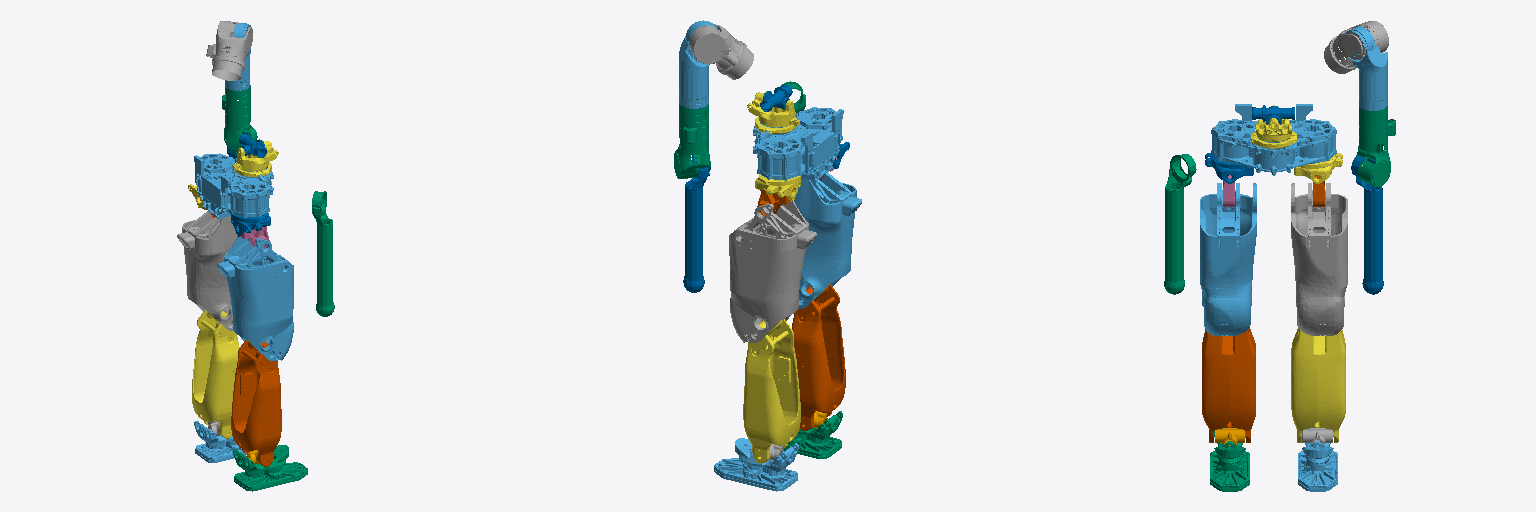
--- Render facts (derived) ---
Views: 3 orthographic renders of the robot side by side, from view 1: azimuth 30°, elevation 25°; view 2: azimuth 150°, elevation 25°; view 3: azimuth 270°, elevation 25°.
Robot: nadia — 35 links, 34 joints (23 revolute, 10 fixed, 1 floating); root link world; default pose: all joints at 0.
Visible links, largest first — view 1: RIGHT_THIGH_LINK, RIGHT_SHIN_LINK, LEFT_THIGH_LINK, LEFT_SHIN_LINK, PELVIS_LINK, RIGHT_ELBOW_PITCH_LINK, RIGHT_FOOT_LINK, LEFT_SHOULDER_PITCH_LINK, LEFT_SHOULDER_YAW_LINK, LEFT_FOOT_LINK, SPINE_YAW_LINK, LEFT_SHOULDER_ROLL_LINK (+1 smaller); view 2: LEFT_THIGH_LINK, LEFT_SHIN_LINK, RIGHT_THIGH_LINK, RIGHT_SHIN_LINK, PELVIS_LINK, LEFT_FOOT_LINK, LEFT_SHOULDER_PITCH_LINK, LEFT_ELBOW_PITCH_LINK, LEFT_SHOULDER_YAW_LINK, LEFT_SHOULDER_ROLL_LINK, RIGHT_FOOT_LINK, SPINE_YAW_LINK (+2 smaller); view 3: RIGHT_THIGH_LINK, LEFT_THIGH_LINK, LEFT_SHIN_LINK, RIGHT_SHIN_LINK, PELVIS_LINK, RIGHT_ELBOW_PITCH_LINK, LEFT_SHOULDER_YAW_LINK, LEFT_ELBOW_PITCH_LINK, LEFT_SHOULDER_ROLL_LINK, RIGHT_FOOT_LINK, LEFT_FOOT_LINK, LEFT_SHOULDER_PITCH_LINK (+4 smaller).
Boxes of the visible links, <box> form: RIGHT_THIGH_LINK: <box>217,236,293,360</box>; RIGHT_SHIN_LINK: <box>231,340,281,466</box>; LEFT_THIGH_LINK: <box>177,211,236,330</box>; LEFT_SHIN_LINK: <box>192,310,239,438</box>; PELVIS_LINK: <box>194,153,273,218</box>; RIGHT_ELBOW_PITCH_LINK: <box>312,191,334,316</box>; RIGHT_FOOT_LINK: <box>233,445,307,491</box>; LEFT_SHOULDER_PITCH_LINK: <box>206,21,252,80</box>; LEFT_SHOULDER_YAW_LINK: <box>222,81,257,154</box>; LEFT_FOOT_LINK: <box>194,421,246,462</box>; SPINE_YAW_LINK: <box>232,140,278,176</box>; LEFT_SHOULDER_ROLL_LINK: <box>225,23,250,90</box>; LEFT_THIGH_LINK: <box>729,201,816,342</box>; LEFT_SHIN_LINK: <box>743,319,800,463</box>; RIGHT_THIGH_LINK: <box>794,172,861,308</box>; RIGHT_SHIN_LINK: <box>792,284,845,430</box>; PELVIS_LINK: <box>753,107,843,180</box>; LEFT_FOOT_LINK: <box>714,438,798,491</box>; LEFT_SHOULDER_PITCH_LINK: <box>689,24,753,79</box>; LEFT_ELBOW_PITCH_LINK: <box>683,155,709,292</box>; LEFT_SHOULDER_YAW_LINK: <box>674,98,710,178</box>; LEFT_SHOULDER_ROLL_LINK: <box>679,20,716,108</box>; RIGHT_FOOT_LINK: <box>783,411,842,458</box>; SPINE_YAW_LINK: <box>747,91,799,133</box>; RIGHT_THIGH_LINK: <box>1200,183,1256,335</box>; LEFT_THIGH_LINK: <box>1291,183,1347,335</box>; LEFT_SHIN_LINK: <box>1291,328,1345,442</box>; RIGHT_SHIN_LINK: <box>1202,328,1255,442</box>; PELVIS_LINK: <box>1211,104,1336,175</box>; RIGHT_ELBOW_PITCH_LINK: <box>1164,154,1196,294</box>; LEFT_SHOULDER_YAW_LINK: <box>1351,100,1395,186</box>; LEFT_ELBOW_PITCH_LINK: <box>1351,155,1383,294</box>; LEFT_SHOULDER_ROLL_LINK: <box>1345,26,1387,110</box>; RIGHT_FOOT_LINK: <box>1210,428,1249,491</box>; LEFT_FOOT_LINK: <box>1298,428,1337,491</box>; LEFT_SHOULDER_PITCH_LINK: <box>1324,21,1388,73</box>.
Bounding box of the posed robot: 0.3882 × 0.6883 × 1.5 m (x, y, z).
20 mesh visuals loaded from 22 distinct referenced files (18 OBJ); not drawn: 4 (reference not matched to a file when rendering).

robot.urdf — nadia:
<?xml version = "1.0" ?>
<robot name="nadia" xmlns:xacro="http://www.ros.org/wiki/xacro">

<mujoco>
    <compiler meshdir="../.." discardvisual="false" strippath="false"/>
</mujoco>

<!-- revolute joints -->
<joint name="LEFT_HIP_Z" type="revolute">
    <origin rpy="0 0 0" xyz="0 0.115 -0.07185" />
    <axis xyz="0 0 -1" />
    <parent link="PELVIS_LINK" />
    <child link="LEFT_HIP_YAW_LINK" />
    <limit effort="1000" lower="-0.7854" upper="0.7854" velocity = "100" />
    <dynamics damping="0.05" friction="0.0"/>
</joint>

<joint name="RIGHT_HIP_Z" type="revolute">
    <origin rpy="0 0 0" xyz="0 -0.115 -0.07185" />
    <axis xyz="0 0 -1" />
    <parent link="PELVIS_LINK" />
    <child link="RIGHT_HIP_YAW_LINK" />
    <limit effort="1000" lower="-0.7854" upper="0.7854" velocity = "100" />
    <dynamics damping="0.05" friction="0.0"/>
</joint>

<joint name="LEFT_HIP_X" type="revolute">
    <origin rpy="0 0 0" xyz="0.035 0.015 -0.04975" />
    <axis xyz="1 0 0" />
    <parent link="LEFT_HIP_YAW_LINK" />
    <child link="LEFT_HIP_ROLL_LINK" />
    <limit effort="1000" lower="-0.5236" upper="1.0472" velocity = "100" />
    <dynamics damping="0.05" friction="0.0"/>
</joint>

<joint name="RIGHT_HIP_X" type="revolute">
    <origin rpy="0 0 0" xyz="0.035 -0.015 -0.04975" />
    <axis xyz="1 0 0" />
    <parent link="RIGHT_HIP_YAW_LINK" />
    <child link="RIGHT_HIP_ROLL_LINK" />
    <limit effort="1000" lower="-1.0472" upper="0.5236" velocity = "100" />
    <dynamics damping="0.05" friction="0.0"/>
</joint>

<joint name="LEFT_HIP_Y" type="revolute">
    <origin rpy="0 0 0" xyz="0 0 -0.079068" />
    <axis xyz="0 1 0" />
    <parent link="LEFT_HIP_ROLL_LINK" />
    <child link="LEFT_THIGH_LINK" />
    <limit effort="1000" lower="-1.57" upper="0.314" velocity = "100" />
    <dynamics damping="0.05" friction="0.0"/>
</joint>

<joint name='LEFT_KNEE_Y' type='revolute'>
    <origin rpy="0 0 0" xyz="0 0 -0.38" />
    <axis xyz="0 1 0" />
    <parent link="LEFT_THIGH_LINK" />
    <child link="LEFT_SHIN_LINK" />
    <limit effort="350" lower="0" upper="2.62" velocity = "100" />
    <dynamics damping="0.05" friction="0.0"/>
</joint>

<joint name="RIGHT_HIP_Y" type="revolute">
    <origin rpy="0 0 0" xyz="0 0 -0.079068" />
    <axis xyz="0 1 0" />
    <parent link="RIGHT_HIP_ROLL_LINK" />
    <child link="RIGHT_THIGH_LINK" />
    <limit effort="1000" lower="-1.57" upper="0.314" velocity = "100" />
    <dynamics damping="0.05" friction="0.0"/>
</joint>

<joint name='RIGHT_KNEE_Y' type='revolute'>
    <origin rpy="0 0 0" xyz="0 0 -0.38" />
    <axis xyz="0 1 0" />
    <parent link="RIGHT_THIGH_LINK" />
    <child link="RIGHT_SHIN_LINK" />
    <limit effort="350" lower="0" upper="2.62" velocity = "100" />
    <dynamics damping="0.05" friction="0.0"/>
</joint>

<joint name="LEFT_ANKLE_Y" type="revolute">
    <origin rpy="0 0 0" xyz="-0.00830222 0 -0.40213938" />
    <axis xyz="0 1 0" />
    <parent link="LEFT_SHIN_LINK" />
    <child link="LEFT_ANKLE_LINK" />
    <limit effort="1000" lower="-1.0472" upper="0.698132" velocity = "100" />
    <dynamics damping="0.05" friction="0.0"/>
</joint>

<joint name="RIGHT_ANKLE_Y" type="revolute">
    <origin rpy="0 0 0" xyz="-0.00830222 0 -0.40213938" />
    <axis xyz="0 1 0" />
    <parent link="RIGHT_SHIN_LINK" />
    <child link="RIGHT_ANKLE_LINK" />
    <limit effort="1000" lower="-1.0472" upper="0.698132" velocity = "100" />
    <dynamics damping="0.05" friction="0.0"/>
</joint>

<joint name="LEFT_ANKLE_X" type="revolute">
    <origin rpy="0 0 0" xyz="0 0 -0.01" />
    <axis xyz="1 0 0" />
    <parent link="LEFT_ANKLE_LINK" />
    <child link="LEFT_FOOT_LINK" />
    <limit effort="1000" lower="-0.436332" upper="0.436332" velocity = "100" />
    <dynamics damping="0.05" friction="0.0"/>
</joint>

<joint name="RIGHT_ANKLE_X" type="revolute">
    <origin rpy="0 0 0" xyz="0 0 -0.01" />
    <axis xyz="1 0 0" />
    <parent link="RIGHT_ANKLE_LINK" />
    <child link="RIGHT_FOOT_LINK" />
    <limit effort="1000" lower="-0.436332" upper="0.436332" velocity = "100" />
    <dynamics damping="0.05" friction="0.0"/>
</joint>

<joint name="SPINE_Z" type="revolute">
    <origin rpy="0 0 0" xyz="0.08 0 0.00635" />
    <axis xyz="0 0 1" />
    <parent link="PELVIS_LINK" />
    <child link="SPINE_YAW_LINK" />
    <limit effort="1000" lower="-1.0472" upper="1.0472" velocity = "100" />
    <dynamics damping="0.05" friction="0.0"/>
</joint>

<joint name="SPINE_X" type="revolute">
    <origin rpy="0 0 0" xyz="0 0 0.08205" />
    <axis xyz="1 0 0" />
    <parent link="SPINE_YAW_LINK" />
    <child link="SPINE_ROLL_LINK" />
    <limit effort="1000" lower="-0.523599" upper="0.523599" velocity = "100" />
    <dynamics damping="0.05" friction="0.0"/>
</joint>

<joint name="SPINE_Y" type="revolute">
    <origin rpy="0 0 0" xyz="0 0 0.01" />
    <axis xyz="0 1 0" />
    <parent link="SPINE_ROLL_LINK" />
    <child link="TORSO_LINK" />
    <limit effort="1000" lower="-1.0472" upper="1.0472" velocity = "100" />
    <dynamics damping="0.05" friction="0.0"/>
</joint>


<!-- worldbody for MuJoCo -->
<link name="world"/>
<joint name="pelvis" type="floating">
    <parent link="world"/>
    <child link="PELVIS_LINK"/>
</joint>

<!-- links -->
<link name="PELVIS_LINK">
  <inertial>
    <mass value="19.0917"/>
    <origin rpy="0 0 0" xyz="0.02073086 2.023E-05 -0.0309812"/>
    <inertia ixx="0.0942" ixy="6.05E-06" ixz="0.000379" iyy="0.0416" iyz="3.37E-07" izz="0.112" />
  </inertial>
  <visual>
    <geometry>
      <mesh filename="nadia_V16_description/meshes/pelvis.obj"/>
    </geometry>
    <origin rpy="0.0 0.0 0.0" xyz="0.0 0.0 0.0"/>
  </visual>
</link>

<!-- pelvis_stim_imu -->
  <joint name="PELVIS_STIM_IMU_JOINT" type="fixed">
    <parent link="PELVIS_LINK"/>
    <child link="PELVIS_STIM_IMU_LINK"/>
    <origin xyz="-0.03133646 0.02237500 -0.07000000" rpy="0.0 3.141592 0.0"/>
  </joint>

  <link name="PELVIS_STIM_IMU_LINK">
    <inertial>
      <mass value="0.0" />
      <origin xyz="0 0 0" rpy="0 0 0" />
      <inertia ixx="0.0" ixy="0.0" ixz="0.0" iyy="0.0" iyz="0.0" izz="0.0" />
    </inertial>
  </link>

  <gazebo reference="PELVIS_STIM_IMU_LINK">
    <sensor name="pelvis_stim_imu" type="imu">
      <always_on>1</always_on>
      <update_rate>1000.0</update_rate>
      <imu>
        <noise>
          <type>gaussian</type>
          <rate>
            <mean>0.0</mean>
            <stddev>2e-4</stddev>
            <bias_mean>0.0000075</bias_mean>
            <bias_stddev>0.0000008</bias_stddev>
          </rate>
          <accel>
            <mean>0.0</mean>
            <stddev>1.7e-2</stddev>
            <bias_mean>0.1</bias_mean>
            <bias_stddev>0.001</bias_stddev>
          </accel>
        </noise>
      </imu>
    </sensor>
  </gazebo>
 <!-- end pelvis stim imu -->

<link name="LEFT_HIP_YAW_LINK">
  <inertial>
    <mass value="1.814"/>
    <origin rpy="0 0 0" xyz="-0.00629727 0.00606893 -0.03971844"/>
    <inertia ixx="0.004741914" ixy="0.000527" ixz="-0.000307" iyy="0.00414" iyz="1.36E-05" izz="0.00569" />
  </inertial>
  <visual>
    <geometry>
      <mesh filename="nadia_V16_description/meshes/left_hip_yaw.obj"/>
    </geometry>
    <origin rpy="0.0 0.0 0.0" xyz="0.0 0.0 0.0"/>
  </visual>
</link>

<link name="RIGHT_HIP_YAW_LINK">
  <inertial>
    <mass value="1.814"/>
    <origin rpy="0 0 0" xyz="-0.00629727 -0.00606893 -0.03971844"/>
    <inertia ixx="0.004741914" ixy="-0.000527" ixz="-0.000307" iyy="0.00414" iyz="-1.36E-05" izz="0.00569" />
  </inertial>
  <visual>
    <geometry>
      <mesh filename="nadia_V16_description/meshes/right_hip_yaw.obj"/>
    </geometry>
    <origin rpy="0.0 0.0 0.0" xyz="0.0 0.0 0.0"/>
  </visual>
</link>

<link name="LEFT_HIP_ROLL_LINK">
  <inertial>
    <mass value="0.762"/>
    <origin rpy="0 0 0" xyz="-0.01327037 0.00316985 -0.05399997"/>
    <inertia ixx="0.001028994" ixy="-9.31E-06" ixz="0.000352" iyy="0.00138" iyz="3.22E-05" izz="0.000663" />
  </inertial>
  <visual>
    <geometry>
      <mesh filename="nadia_V16_description/meshes/left_hip_roll.obj"/>
    </geometry>
    <origin rpy="0.0 0.0 0.0" xyz="0.0 0.0 0.0"/>
  </visual>
</link>

<link name="RIGHT_HIP_ROLL_LINK">
  <inertial>
    <mass value="0.762"/>
    <origin rpy="0 0 0" xyz="-0.01327037 -0.00316985 -0.05399997"/>
    <inertia ixx="0.001028994" ixy="9.31E-06" ixz="0.000352" iyy="0.00138" iyz="-3.22E-05" izz="0.000663" />
  </inertial>
  <visual>
    <geometry>
      <mesh filename="nadia_V16_description/meshes/right_hip_roll.obj"/>
    </geometry>
    <origin rpy="0.0 0.0 0.0" xyz="0.0 0.0 0.0"/>
  </visual>
</link>

<link name="LEFT_THIGH_LINK">
  <inertial>
    <mass value="10.953"/>
    <origin rpy="0 0 0" xyz="-0.00093749 0.01134511 -0.17863144"/>
    <inertia ixx="0.1622268263" ixy="-0.000749" ixz="0.0156" iyy="0.174" iyz="0.00213" izz="0.0528" />
  </inertial>
  <visual>
    <geometry>
      <mesh filename="nadia_V16_description/meshes/left_thigh.obj"/>
    </geometry>
    <origin rpy="0.0 0.0 0.0" xyz="0.0 0.0 0.0"/>
  </visual>
</link>

<!-- left thigh imu -->
  <joint name="LEFT_THIGH_IMU_JOINT" type="fixed">
    <parent link="LEFT_THIGH_LINK"/>
    <child link="LEFT_THIGH_IMU_LINK"/>
    <origin xyz="0.05793744 0.01666131 -0.09511697" rpy="2.025  0.000 -1.571"/>  
  </joint>

  <link name="LEFT_THIGH_IMU_LINK">
    <inertial>
      <mass value="0.0" />
      <origin xyz="0 0 0" rpy="0 0 0" />
      <inertia ixx="0.0" ixy="0.0" ixz="0.0" iyy="0.0" iyz="0.0" izz="0.0" />
    </inertial>
  </link>

  <gazebo reference="LEFT_THIGH_IMU_LINK">
    <sensor name="left_thigh_imu" type="imu">
      <always_on>1</always_on>
      <update_rate>1000.0</update_rate>
      <imu>
        <noise>
          <type>gaussian</type>
          <rate>
            <mean>0.0</mean>
            <stddev>2e-4</stddev>
            <bias_mean>0.0000075</bias_mean>
            <bias_stddev>0.0000008</bias_stddev>
          </rate>
          <accel>
            <mean>0.0</mean>
            <stddev>1.7e-2</stddev>
            <bias_mean>0.1</bias_mean>
            <bias_stddev>0.001</bias_stddev>
          </accel>
        </noise>
      </imu>
    </sensor>
  </gazebo>
<!-- end left thigh imu -->

<link name="RIGHT_THIGH_LINK">
  <inertial>
    <mass value="10.953"/>
    <origin rpy="0 0 0" xyz="-0.00093749 -0.01134511 -0.17863144"/>
    <inertia ixx="0.1622268263" ixy="0.000749" ixz="0.0156" iyy="0.174" iyz="-0.00213" izz="0.0528" />
  </inertial>
  <visual>
    <geometry>
      <mesh filename="nadia_V16_description/meshes/right_thigh.obj"/>
    </geometry>
    <origin rpy="0.0 0.0 0.0" xyz="0.0 0.0 0.0"/>
  </visual>
</link>

<!-- right thigh imu -->
  <joint name="RIGHT_THIGH_IMU_JOINT" type="fixed">
    <parent link="RIGHT_THIGH_LINK"/>
    <child link="RIGHT_THIGH_IMU_LINK"/>
    <origin xyz="0.05793670 0.01066129 -0.09511742" rpy="2.025  0.000 -1.571"/>  
  </joint>

  <link name="RIGHT_THIGH_IMU_LINK">
    <inertial>
      <mass value="0.0" />
      <origin xyz="0 0 0" rpy="0 0 0" />
      <inertia ixx="0.0" ixy="0.0" ixz="0.0" iyy="0.0" iyz="0.0" izz="0.0" />
    </inertial>
  </link>

  <gazebo reference="RIGHT_THIGH_IMU_LINK">
    <sensor name="right_thigh_imu" type="imu">
      <always_on>1</always_on>
      <update_rate>1000.0</update_rate>
      <imu>
        <noise>
          <type>gaussian</type>
          <rate>
            <mean>0.0</mean>
            <stddev>2e-4</stddev>
            <bias_mean>0.0000075</bias_mean>
            <bias_stddev>0.0000008</bias_stddev>
          </rate>
          <accel>
            <mean>0.0</mean>
            <stddev>1.7e-2</stddev>
            <bias_mean>0.1</bias_mean>
            <bias_stddev>0.001</bias_stddev>
          </accel>
        </noise>
      </imu>
    </sensor>
  </gazebo>
<!-- end right thigh imu -->

<link name="LEFT_SHIN_LINK">
  <inertial>
    <mass value="5.42"/>
    <origin rpy="0 0 0" xyz="-0.01841492 0.00228086 -0.22054239"/>
    <inertia ixx="0.064437783" ixy="-0.000214" ixz="-0.00538" iyy="0.0583" iyz="-0.000962" izz="0.0136" />
  </inertial>
  <visual>
    <geometry>
      <mesh filename="nadia_V16_description/meshes/left_shin.obj"/>
    </geometry>
    <origin rpy="0.0 0.0 0.0" xyz="0.0 0.0 0.0"/>
  </visual>
</link>


<!-- left shin imu -->
  <joint name="LEFT_SHIN_IMU_JOINT" type="fixed">
    <parent link="LEFT_SHIN_LINK"/>
    <child link="LEFT_SHIN_IMU_LINK"/>
    <origin xyz="-0.03216129 -0.07159184 -0.1864738" rpy="-1.570796 0.0 0.0"/>  
  </joint>

  <link name="LEFT_SHIN_IMU_LINK">
    <inertial>
      <mass value="0.0" />
      <origin xyz="0 0 0" rpy="0 0 0" />
      <inertia ixx="0.0" ixy="0.0" ixz="0.0" iyy="0.0" iyz="0.0" izz="0.0" />
    </inertial>
  </link>

  <gazebo reference="LEFT_SHIN_IMU_LINK">
    <sensor name="left_shin_imu" type="imu">
      <always_on>1</always_on>
      <update_rate>1000.0</update_rate>
      <imu>
        <noise>
          <type>gaussian</type>
          <rate>
            <mean>0.0</mean>
            <stddev>2e-4</stddev>
            <bias_mean>0.0000075</bias_mean>
            <bias_stddev>0.0000008</bias_stddev>
          </rate>
          <accel>
            <mean>0.0</mean>
            <stddev>1.7e-2</stddev>
            <bias_mean>0.1</bias_mean>
            <bias_stddev>0.001</bias_stddev>
          </accel>
        </noise>
      </imu>
    </sensor>
  </gazebo>
<!-- end left shin imu -->

<link name="RIGHT_SHIN_LINK">
  <inertial>
    <mass value="5.42"/>
    <origin rpy="0 0 0" xyz="-0.01837047 -0.00241134 -0.21991278"/>
    <inertia ixx="0.064443143" ixy="0.000202" ixz="-0.00539" iyy="0.0583" iyz="0.000906" izz="0.0136" />
  </inertial>
  <visual>
    <geometry>
      <mesh filename="nadia_V16_description/meshes/right_shin.obj"/>
    </geometry>
    <origin rpy="0.0 0.0 0.0" xyz="0.0 0.0 0.0"/>
  </visual>
</link>

<!-- right shin imu -->
  <joint name="RIGHT_SHIN_IMU_JOINT" type="fixed">
    <parent link="RIGHT_SHIN_LINK"/>
    <child link="RIGHT_SHIN_IMU_LINK"/>
    <origin xyz="-0.002838710 0.07159142 -0.1864738" rpy="-1.570796 0.0 3.141592"/>  
  </joint>

  <link name="RIGHT_SHIN_IMU_LINK">
    <inertial>
      <mass value="0.0" />
      <origin xyz="0 0 0" rpy="0 0 0" />
      <inertia ixx="0.0" ixy="0.0" ixz="0.0" iyy="0.0" iyz="0.0" izz="0.0" />
    </inertial>
  </link>

  <gazebo reference="RIGHT_SHIN_IMU_LINK">
    <sensor name="right_shin_imu" type="imu">
      <always_on>1</always_on>
      <update_rate>1000.0</update_rate>
      <imu>
        <noise>
          <type>gaussian</type>
          <rate>
            <mean>0.0</mean>
            <stddev>2e-4</stddev>
            <bias_mean>0.0000075</bias_mean>
            <bias_stddev>0.0000008</bias_stddev>
          </rate>
          <accel>
            <mean>0.0</mean>
            <stddev>1.7e-2</stddev>
            <bias_mean>0.1</bias_mean>
            <bias_stddev>0.001</bias_stddev>
          </accel>
        </noise>
      </imu>
    </sensor>
  </gazebo>
<!-- end right shin imu -->

<link name="LEFT_ANKLE_LINK">
  <inertial>
    <mass value="0.56"/>
    <origin rpy="0 0 0" xyz="-0.00072338 -6.619E-05 -0.00399965"/>
    <inertia ixx="0.000459" ixy="2.65E-08" ixz="-2.43E-06" iyy="0.000336" iyz="1.48E-07" izz="0.000645" />
  </inertial>
  <visual>
    <geometry>
      <mesh filename="nadia_V16_description/meshes/ankle.obj"/>
    </geometry>
    <origin rpy="0.0 0.0 0.0" xyz="0.0 0.0 0.0"/>
  </visual>
</link>

<link name="RIGHT_ANKLE_LINK">
  <inertial>
    <mass value="0.56"/>
    <origin rpy="0 0 0" xyz="-0.00072338 6.619E-05 -0.00399965"/>
    <inertia ixx="0.000459" ixy="-2.65E-08" ixz="-2.43E-06" iyy="0.000336" iyz="-1.48E-07" izz="0.000645" />
  </inertial>
  <visual>
    <geometry>
      <mesh filename="nadia_V16_description/meshes/ankle.obj"/>
    </geometry>
    <origin rpy="0.0 0.0 0.0" xyz="0.0 0.0 0.0"/>
  </visual>
</link>

<link name="LEFT_FOOT_LINK">
  <inertial>
    <mass value="1.75"/>
    <origin rpy="0 0 0" xyz="0.03075449 0.00007807 -0.04382467"/>
    <inertia ixx="0.00345011" ixy="-0.0000073" ixz="0.0014225" iyy="0.00955764" iyz="-2.269e-7" izz="0.00881313" />
  </inertial>
  <visual>
    <geometry>
      <mesh filename="nadia_V16_description/meshes/foot.obj"/>
    </geometry>
    <origin rpy="0.0 0.0 0.0" xyz="0.0 0.0 0.0"/>
  </visual>
</link>

<link name="RIGHT_FOOT_LINK">
  <inertial>
    <mass value="1.75"/>
    <origin rpy="0 0 0" xyz="0.032048 4e-06 -0.028422"/>
    <inertia ixx="0.00345011" ixy="-0.0000073" ixz="0.0014225" iyy="0.00955764" iyz="-2.269e-7" izz="0.00881313" />
  </inertial>
  <visual>
    <geometry>
      <mesh filename="nadia_V16_description/meshes/foot.obj"/>
    </geometry>
    <origin rpy="0.0 0.0 0.0" xyz="0.0 0.0 0.0"/>
  </visual>
</link>

<link name="SPINE_YAW_LINK">
  <inertial>
    <mass value="0.91"/>
    <origin rpy="0 0 0" xyz="-0.00853118 -2.697E-05 0.03791445"/>
    <inertia ixx="0.00374289408" ixy="1.25497934E-07" ixz="0.000271325072" iyy="0.00403002777" iyz="-1.38015692E-07" izz="0.0062129847" />
  </inertial>
  <visual>
    <geometry>
      <mesh filename="nadia_V16_description/meshes/spine_yaw.obj"/>
    </geometry>
    <origin rpy="0.0 0.0 0.0" xyz="0.0 0.0 0.0"/>
  </visual>
</link>

<link name="SPINE_ROLL_LINK">
  <inertial>
    <mass value="0.44"/>
    <origin rpy="0 0 0" xyz="-0.01904983 7E-08 0.01979244"/>
    <inertia ixx="0.000373262301" ixy="-1.51441878E-10" ixz="-6.69067307E-05" iyy="0.000649978475" iyz="-1.27858402E-10" izz="0.000419408851" />
  </inertial>
  <visual>
    <geometry>
      <mesh filename="nadia_V16_description/meshes/spine_roll.obj"/>
    </geometry>
    <origin rpy="0.0 0.0 0.0" xyz="0.0 0.0 0.0"/>
  </visual>
</link>

<link name="TORSO_LINK">
  <inertial>
    <mass value="13.5"/>
    <origin rpy="0 0 0" xyz="-0.03613868 -2.81E-06 0.25908586"/>
    <inertia ixx="0.534504681" ixy="8.41519717E-05" ixz="-0.00672956305" iyy="0.505409852" iyz="0.000207996773" izz="0.379402013" />
  </inertial>
  <visual>
    <geometry>
      <mesh filename="nadia_V16_description/meshes/torso_cycloidmounts.obj"/>
    </geometry>
    <origin rpy="0.0 0.0 0.0" xyz="0.0 0.0 0.0"/>
  </visual>
</link>

<!-- torso imu -->
  <joint name="TORSO_IMU_JOINT" type="fixed">
    <parent link="TORSO_LINK"/>
    <child link="TORSO_IMU_LINK"/>
    <origin xyz="0.04529 -0.02427 0.33757" rpy="3.141592 0 0"/>  
  </joint>

  <link name="TORSO_IMU_LINK">
    <inertial>
      <mass value="0.0" />
      <origin xyz="0 0 0" rpy="0 0 0" />
      <inertia ixx="0.0" ixy="0.0" ixz="0.0" iyy="0.0" iyz="0.0" izz="0.0" />
    </inertial>
  </link>

  <gazebo reference="TORSO_IMU_LINK">
    <sensor name="torso_imu" type="imu">
      <always_on>1</always_on>
      <update_rate>1000.0</update_rate>
      <imu>
        <noise>
          <type>gaussian</type>
          <rate>
            <mean>0.0</mean>
            <stddev>2e-4</stddev>
            <bias_mean>0.0000075</bias_mean>
            <bias_stddev>0.0000008</bias_stddev>
          </rate>
          <accel>
            <mean>0.0</mean>
            <stddev>1.7e-2</stddev>
            <bias_mean>0.1</bias_mean>
            <bias_stddev>0.001</bias_stddev>
          </accel>
        </noise>
      </imu>
    </sensor>
  </gazebo>
<!-- end torso imu -->

<!-- left arm -->
<joint name="LEFT_SHOULDER_Y" type="revolute">
    <origin xyz="0.001 0.185 0.173" rpy="0.785398163 0.0 -0.785398163"   />
    <axis xyz="0.0 1.0 0.0" />
    <parent link="TORSO_LINK" />
    <child link="LEFT_SHOULDER_PITCH_LINK" />
    <limit effort="1000" lower="-3.141592" upper="1.22173" velocity = "100" />
    <dynamics damping="0.05" friction="0.0"/>
</joint>
<joint name="LEFT_SHOULDER_X" type="revolute">
    <origin rpy="-0.785398163 0.0 0.0" xyz="0.0 0.15676000 -0.01300000" />
    <axis xyz="1 0 0" />
    <parent link="LEFT_SHOULDER_PITCH_LINK" />
    <child link="LEFT_SHOULDER_ROLL_LINK" />
    <limit effort="1000" lower="-0.261799" upper="2.87979" velocity = "100" />
    <dynamics damping="0.05" friction="0.0"/>
</joint>
<joint name="LEFT_SHOULDER_Z" type="revolute">
    <origin rpy="0.0 0.0 0.0" xyz="0.0 0.035 0.0" />
    <axis xyz="0.0 0.0 1.0" />
    <parent link="LEFT_SHOULDER_ROLL_LINK" />
    <child link="LEFT_SHOULDER_YAW_LINK" />
    <limit effort="1000" lower="-1.91986" upper="1.22173" velocity = "100" />
    <dynamics damping="0.05" friction="0.0"/>
</joint>
<joint name="LEFT_ELBOW_Y" type="revolute">
    <origin rpy="0.0 0.0 0.0" xyz="0.015 0.0 -0.4" />
    <axis xyz="0.0 1.0 0.0" />
    <parent link="LEFT_SHOULDER_YAW_LINK" />
    <child link="LEFT_ELBOW_PITCH_LINK" />
    <limit effort="1000" lower="-2.35619" upper="0.174532925" velocity = "100" />
    <dynamics damping="0.05" friction="0.0"/>
</joint>

<link name="LEFT_SHOULDER_PITCH_LINK">
  <inertial>
    <mass value="2.917"/>
    <origin rpy="0 0 0" xyz="-0.00117 0.1400097 -0.00621"/>
    <inertia ixx="0.0108367" ixy="1.356e-4" ixz="-2.666e-5" iyy="0.00498324" iyz="0.00090758" izz="0.01142661" />
  </inertial>
  <visual>
    <geometry>
      <mesh filename="nadia_V17_description/meshes/cycloidal_arm/LEFT_SHOULDER_PITCH_LINK.obj"/>
    </geometry>
    <origin rpy="0.0 0.0 0.0" xyz="0.0 0.0 0.0"/>
  </visual>
</link>

<!-- LEFT SHOULDER PITCH IMU Information --> 
<joint name="LEFT_SHOULDER_PITCH_IMU_JOINT" type="fixed">
	<origin rpy="-1.570796 1.570796 0" xyz="0.0174 0.06944 -0.03025"/>
	<axis xyz="0 0 1"/>
	<parent link="LEFT_SHOULDER_PITCH_LINK"/>
	<child link="LEFT_SHOULDER_PITCH_IMU_LINK"/>
</joint>

<link name="LEFT_SHOULDER_PITCH_IMU_LINK">
    <inertial>
      <mass value="0"/>
      <origin rpy="0 0 0" xyz="0 0 0"/>
      <inertia ixx="0.0" ixy="0.0" ixz="0.0" iyy="0.0" iyz="0.0" izz="0.0"/>
    </inertial>
</link>

<gazebo reference="LEFT_SHOULDER_PITCH_IMU_LINK">
	<sensor name="left_shoulder_pitch_imu" type="imu">
	  <imuTransform>0.0174 0.06944 -0.03025 -1.570796 1.570796 0</imuTransform>
	  <always_on>true</always_on>
	  <pose>0 0 0 0 0 0 </pose>
	  <imu>
		<noise>
		  <type>gaussian</type>
		  <rate>
			<mean>0</mean>
			<stddev>0.0002</stddev>
			<bias_mean>7.5e-06</bias_mean>
			<bias_stddev>8e-07</bias_stddev>
		  </rate>
		  <accel>
			<mean>0</mean>
			<stddev>0.017</stddev>
			<bias_mean>0.1</bias_mean>
			<bias_stddev>0.001</bias_stddev>
		  </accel>
		</noise>
	  </imu>
	</sensor>
</gazebo>

<link name="LEFT_SHOULDER_ROLL_LINK">
  <inertial>
    <mass value="1.17068"/>
    <origin rpy="0 0 0" xyz="0.01053 0.02124 -0.1052690"/>
    <inertia ixx="0.00787035" ixy="1.667e-4" ixz="-0.00075945" iyy="0.00727481" iyz="0.000988837" izz="0.00182144" />
  </inertial>
  <visual>
    <geometry>
      <mesh filename="nadia_V17_description/meshes/cycloidal_arm/LEFT_SHOULDER_ROLL_LINK.obj"/>
    </geometry>
    <origin rpy="0.0 0.0 0.0" xyz="0.0 0.0 0.0"/>
  </visual>
</link>

<link name="LEFT_SHOULDER_YAW_LINK">
  <inertial>
    <mass value="2.53059"/>
    <origin rpy="0 0 0" xyz="0.00479 0.00062 -0.3624141"/>
    <inertia ixx="0.02277422" ixy="5.053e-5" ixz="0.0012266" iyy="0.0225956" iyz="-2.571e-4" izz="0.00260312" />
  </inertial>
  <visual>
    <geometry>
      <mesh filename="nadia_V17_description/meshes/cycloidal_arm/LEFT_SHOULDER_YAW_LINK.obj"/>
    </geometry>
    <origin rpy="0.0 0.0 0.0" xyz="0.0 0.0 0.0"/>
  </visual>
</link>

<!-- Left Shoulder Yaw IMU -->
<joint name="LEFT_SHOULDER_YAW_IMU_JOINT" type="fixed">
	<origin rpy="-1.570796 3.1415926 -0.314159" xyz="-0.00763459 -0.0123324 -0.318"/>
	<axis xyz="0 0 1"/>
	<parent link="LEFT_SHOULDER_YAW_LINK"/> 
	<child link="LEFT_SHOULDER_YAW_IMU_LINK"/>
</joint>

<link name="LEFT_SHOULDER_YAW_IMU_LINK">
    <inertial>
      <mass value="0"/>
      <origin rpy="0 0 0" xyz="0 0 0"/>
      <inertia ixx="0.0" ixy="0.0" ixz="0.0" iyy="0.0" iyz="0.0" izz="0.0"/>
    </inertial>
 </link>

<gazebo reference="LEFT_SHOULDER_YAW_IMU_LINK">
<sensor name="left_shoulder_yaw_imu" type="imu">
  <imuTransform>-0.00763459 -0.0123324 -0.318 -1.570796 3.1415926 -0.314159</imuTransform>
  <always_on>true</always_on>
  <pose>0 0 0 0 0 0 </pose>
  <imu>
	<noise>
	  <type>gaussian</type>
	  <rate>
		<mean>0</mean>
		<stddev>0.0002</stddev>
		<bias_mean>7.5e-06</bias_mean>
		<bias_stddev>8e-07</bias_stddev>
	  </rate>
	  <accel>
		<mean>0</mean>
		<stddev>0.017</stddev>
		<bias_mean>0.1</bias_mean>
		<bias_stddev>0.001</bias_stddev>
	  </accel>
	</noise>
  </imu>
</sensor>
</gazebo>

<link name="LEFT_ELBOW_PITCH_LINK">
  <inertial>
    <mass value="0.6007"/>
    <origin rpy="0 0 0" xyz="-0.01090935 -0.01147189 -0.10388715"/>
    <inertia ixx="0.00760733" ixy="2.242e-5" ixz="-2.583e-4" iyy="0.00767556" iyz="0.00061995" izz="4.554e-4" />
  </inertial>
  <visual>
    <geometry>
      <mesh filename="nadia_V17_description/meshes/cycloidal_arm/LEFT_ELBOW_PITCH_LINK_413mm_LENGTH.obj"/>
    </geometry>
    <origin rpy="0.0 0.0 0.0" xyz="0.0 0.0 0.0"/>
  </visual>
</link>


<joint name="RIGHT_SHOULDER_Y" type="revolute">
    <origin xyz="0.001 -0.185 0.173" rpy="-0.785398163 0.0 0.785398163"   />
    <axis xyz="0.0 1.0 0.0" />
    <parent link="TORSO_LINK" />
    <child link="RIGHT_SHOULDER_PITCH_LINK" />
    <limit effort="1000" lower="-3.141592" upper="1.22173" velocity = "100" />
    <dynamics damping="0.05" friction="0.0"/>
</joint>
<joint name="RIGHT_SHOULDER_X" type="revolute">
    <origin rpy="0.785398163 0.0 0.0" xyz="0.0 -0.15676000 -0.01300000" />
    <axis xyz="1 0 0" />
    <parent link="RIGHT_SHOULDER_PITCH_LINK" />
    <child link="RIGHT_SHOULDER_ROLL_LINK" />
    <limit effort="1000" lower="-2.87979" upper="0.261799" velocity = "100" />
    <dynamics damping="0.05" friction="0.0"/>
</joint>
<joint name="RIGHT_SHOULDER_Z" type="revolute">
    <origin rpy="0.0 0.0 0.0" xyz="0.0 -0.035 0.0" />
    <axis xyz="0.0 0.0 1.0" />
    <parent link="RIGHT_SHOULDER_ROLL_LINK" />
    <child link="RIGHT_SHOULDER_YAW_LINK" />
    <limit effort="1000" lower="-1.22173" upper="1.91986" velocity = "100" />
    <dynamics damping="0.05" friction="0.0"/>
</joint>
<joint name="RIGHT_ELBOW_Y" type="revolute">
    <origin rpy="0.0 0.0 0.0" xyz="0.015 0.0 -0.4" />
    <axis xyz="0.0 1.0 0.0" />
    <parent link="RIGHT_SHOULDER_YAW_LINK" />
    <child link="RIGHT_ELBOW_PITCH_LINK" />
    <limit effort="1000" lower="-2.35619" upper="0.174532925" velocity = "100" />
    <dynamics damping="0.05" friction="0.0"/>
</joint>

<link name="RIGHT_SHOULDER_PITCH_LINK">
  <inertial>
    <mass value="2.917"/>
    <origin rpy="0 0 0" xyz="-0.00117 -0.1400097 -0.00621"/>
    <inertia ixx="0.0108367" ixy="1.356e-4" ixz="-2.666e-5" iyy="0.00498324" iyz="0.00090758" izz="0.01142661" />
  </inertial>
  <visual>
    <geometry>
      <mesh filename="nadia_V17_description/meshes/cycloidal_arm/RIGHT_SHOULDER_PITCH_LINK.obj"/>
    </geometry>
    <origin rpy="0.0 0.0 0.0" xyz="0.0 0.0 0.0"/>
  </visual>
</link>

<!-- RIGHT SHOULDER PITCH IMU Information --> 
<joint name="RIGHT_SHOULDER_PITCH_IMU_JOINT" type="fixed">
	<origin rpy="-1.570796 1.570796 0" xyz="0.0174 -0.06944 -0.03025"/>
	<axis xyz="0 0 1"/>
	<parent link="RIGHT_SHOULDER_PITCH_LINK"/>
	<child link="RIGHT_SHOULDER_PITCH_IMU_LINK"/>
</joint>

<link name="RIGHT_SHOULDER_PITCH_IMU_LINK">
    <inertial>
      <mass value="0"/>
      <origin rpy="0 0 0" xyz="0 0 0"/>
      <inertia ixx="0.0" ixy="0.0" ixz="0.0" iyy="0.0" iyz="0.0" izz="0.0"/>
    </inertial>
</link>

<gazebo reference="RIGHT_SHOULDER_PITCH_IMU_LINK">
	<sensor name="right_shoulder_pitch_imu" type="imu">
	  <imuTransform>0.0174 0.06944 -0.03025 -1.570796 1.570796 0</imuTransform>
	  <always_on>true</always_on>
	  <pose>0 0 0 0 0 0 </pose>
	  <imu>
		<noise>
		  <type>gaussian</type>
		  <rate>
			<mean>0</mean>
			<stddev>0.0002</stddev>
			<bias_mean>7.5e-06</bias_mean>
			<bias_stddev>8e-07</bias_stddev>
		  </rate>
		  <accel>
			<mean>0</mean>
			<stddev>0.017</stddev>
			<bias_mean>0.1</bias_mean>
			<bias_stddev>0.001</bias_stddev>
		  </accel>
		</noise>
	  </imu>
	</sensor>
</gazebo>

<link name="RIGHT_SHOULDER_ROLL_LINK">
  <inertial>
    <mass value="1.17068"/>
    <origin rpy="0 0 0" xyz="-0.01053 -0.02124 -0.1052690"/>
    <inertia ixx="0.00787035" ixy="-1.667e-4" ixz="-0.00075945" iyy="0.00727481" iyz="-0.000988837" izz="0.00182144" />
  </inertial>
  <visual>
    <geometry>
      <mesh filename="nadia_V17_description/meshes/cycloidal_arm/RIGHT_SHOULDER_ROLL_LINK.obj"/>
    </geometry>
    <origin rpy="0.0 0.0 0.0" xyz="0.0 0.0 0.0"/>
  </visual>
</link>

<link name="RIGHT_SHOULDER_YAW_LINK">
  <inertial>
    <mass value="2.53059"/>
    <origin rpy="0 0 0" xyz="0.00479 0.00062 -0.3624141"/>
    <inertia ixx="0.02277422" ixy="5.053e-5" ixz="0.0012266" iyy="0.0225956" iyz="-2.571e-4" izz="0.00260312" />
  </inertial>
  <visual>
    <geometry>
      <mesh filename="nadia_V17_description/meshes/cycloidal_arm/RIGHT_SHOULDER_YAW_LINK.obj"/>
    </geometry>
    <origin rpy="0.0 0.0 0.0" xyz="0.0 0.0 0.0"/>
  </visual>
</link>

<!-- Right Shoulder Yaw IMU -->
<joint name="RIGHT_SHOULDER_YAW_IMU_JOINT" type="fixed">
	<origin rpy="-1.570796 3.1415926 -0.314159" xyz="-0.00763459 -0.0123324 -0.318"/>
	<axis xyz="0 0 1"/>
	<parent link="RIGHT_SHOULDER_YAW_LINK"/> 
	<child link="RIGHT_SHOULDER_YAW_IMU_LINK"/>
</joint>

<link name="RIGHT_SHOULDER_YAW_IMU_LINK">
    <inertial>
      <mass value="0"/>
      <origin rpy="0 0 0" xyz="0 0 0"/>
      <inertia ixx="0.0" ixy="0.0" ixz="0.0" iyy="0.0" iyz="0.0" izz="0.0"/>
    </inertial>
 </link>

<gazebo reference="RIGHT_SHOULDER_YAW_IMU_LINK">
<sensor name="right_shoulder_yaw_imu" type="imu">
  <imuTransform>-0.00763459 -0.0123324 -0.318 -1.570796 3.1415926 -0.314159</imuTransform>
  <always_on>true</always_on>
  <pose>0 0 0 0 0 0 </pose>
  <imu>
	<noise>
	  <type>gaussian</type>
	  <rate>
		<mean>0</mean>
		<stddev>0.0002</stddev>
		<bias_mean>7.5e-06</bias_mean>
		<bias_stddev>8e-07</bias_stddev>
	  </rate>
	  <accel>
		<mean>0</mean>
		<stddev>0.017</stddev>
		<bias_mean>0.1</bias_mean>
		<bias_stddev>0.001</bias_stddev>
	  </accel>
	</noise>
  </imu>
</sensor>
</gazebo>

<link name="RIGHT_ELBOW_PITCH_LINK">
  <inertial>
    <mass value="0.6007"/>
    <origin rpy="0 0 0" xyz="-0.01090935 -0.01147189 -0.10388715"/>
    <inertia ixx="0.00760733" ixy="2.242e-5" ixz="-2.583e-4" iyy="0.00767556" iyz="0.00061995" izz="4.554e-4" />
  </inertial>
  <visual>
    <geometry>
      <mesh filename="nadia_V17_description/meshes/cycloidal_arm/RIGHT_ELBOW_PITCH_LINK_413mm_LENGTH.obj"/>
    </geometry>
    <origin rpy="0.0 0.0 0.0" xyz="0.0 0.0 0.0"/>
  </visual>
</link>


</robot>
